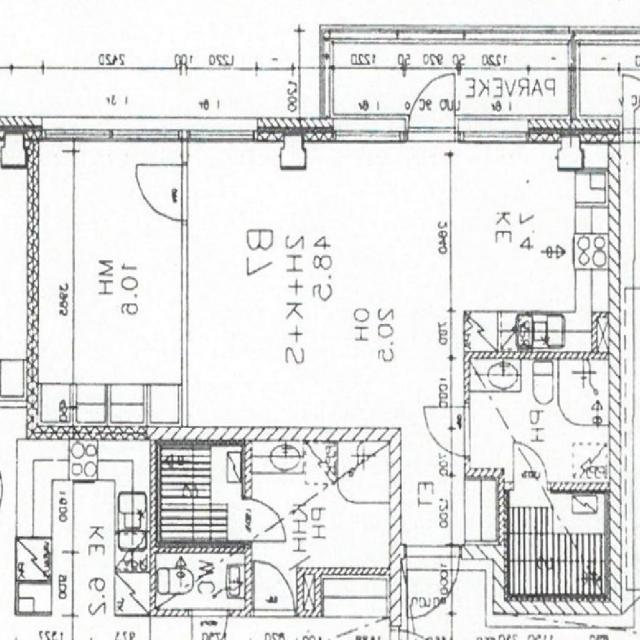door: (407, 544, 459, 622), (409, 62, 455, 141), (136, 165, 188, 221), (424, 407, 469, 456), (514, 442, 548, 493)
